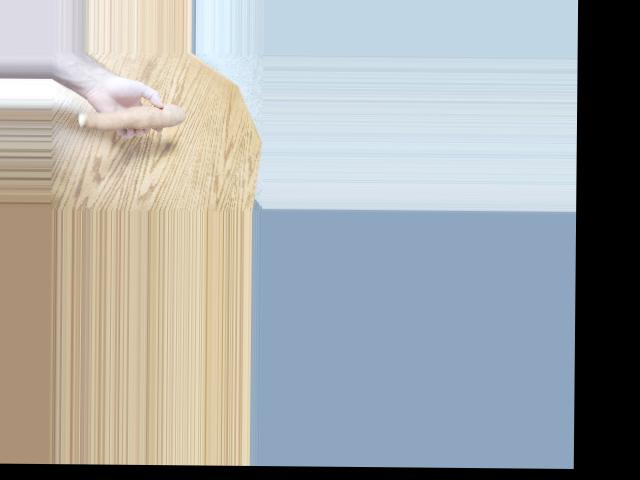sweet_potato: (86, 108, 186, 137)
